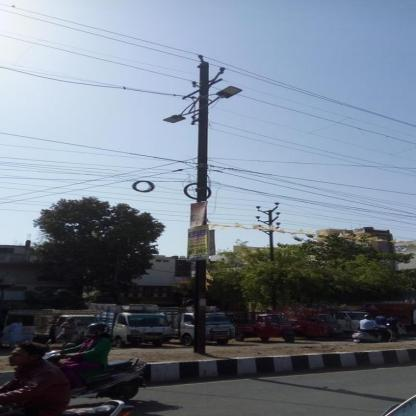Electrical Pole: (159, 47, 242, 355)
